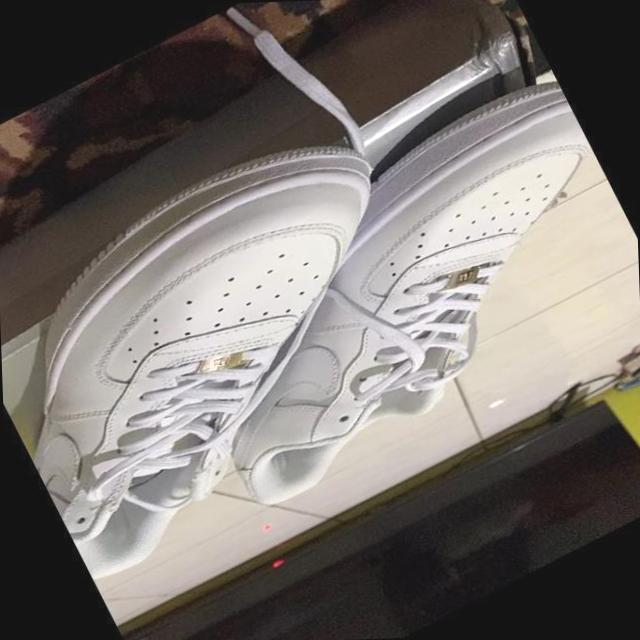nike_fake_airforce: (0, 103, 495, 586), (131, 68, 640, 523)
